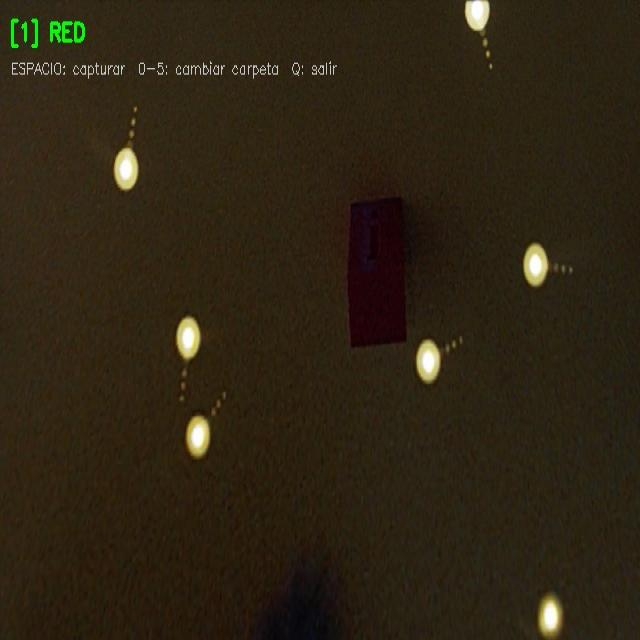red: (350, 201, 408, 344)
